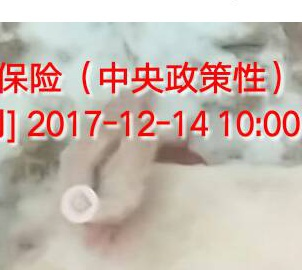text: (50, 169, 116, 228)
